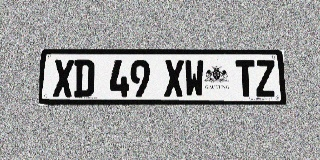4: (110, 60, 130, 97)
9: (130, 60, 150, 97)
D: (74, 59, 94, 97)
T: (235, 60, 256, 97)
W: (184, 60, 204, 97)
X: (53, 59, 74, 97), (164, 60, 184, 97)
Z: (255, 60, 276, 97)
